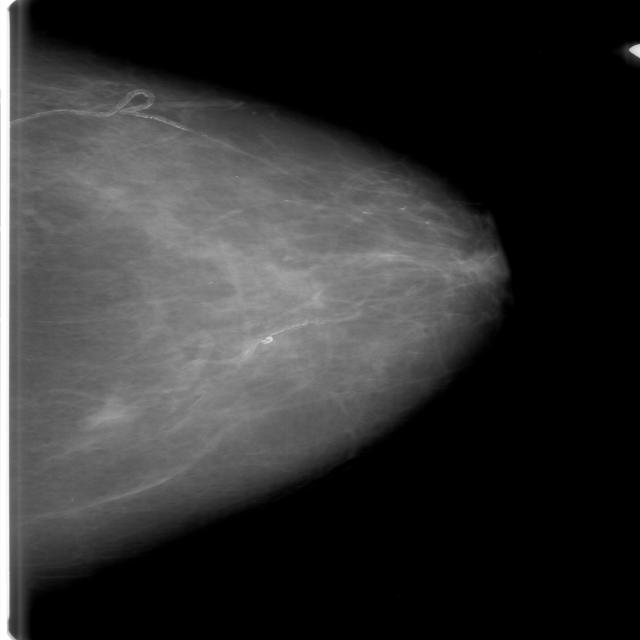normal: (0, 55, 513, 602)
